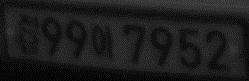2: (206, 30, 231, 72)
5: (178, 28, 201, 69)
7: (123, 22, 146, 64)
9: (148, 27, 173, 67), (65, 19, 88, 59), (40, 16, 62, 57)
아: (91, 22, 114, 60)
전남_V: (16, 13, 40, 56)
